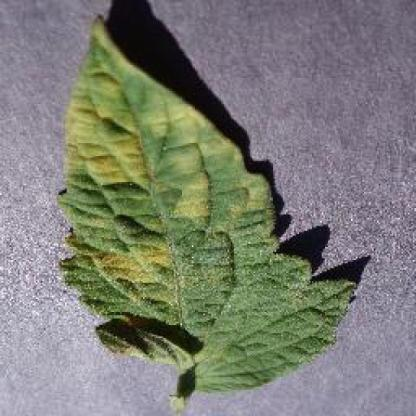Tomato_Leaf_Mold: (62, 19, 356, 384)
